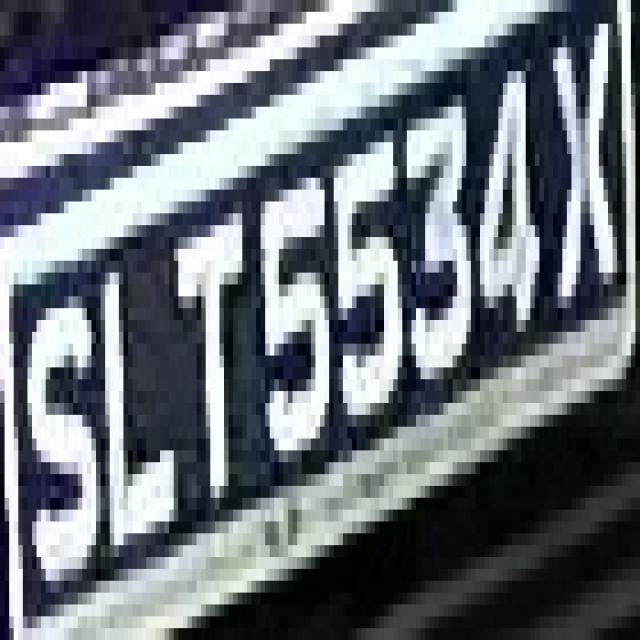3: (388, 47, 476, 403)
4: (457, 36, 549, 356)
5: (242, 154, 338, 498), (320, 119, 402, 474)
L: (96, 249, 187, 569)
S: (23, 237, 100, 604)
T: (174, 202, 256, 534)
X: (539, 0, 622, 320)
